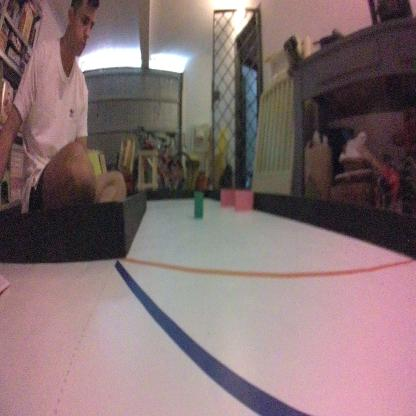green: (192, 189, 204, 221)
magenta: (230, 188, 253, 214), (218, 186, 235, 206)
